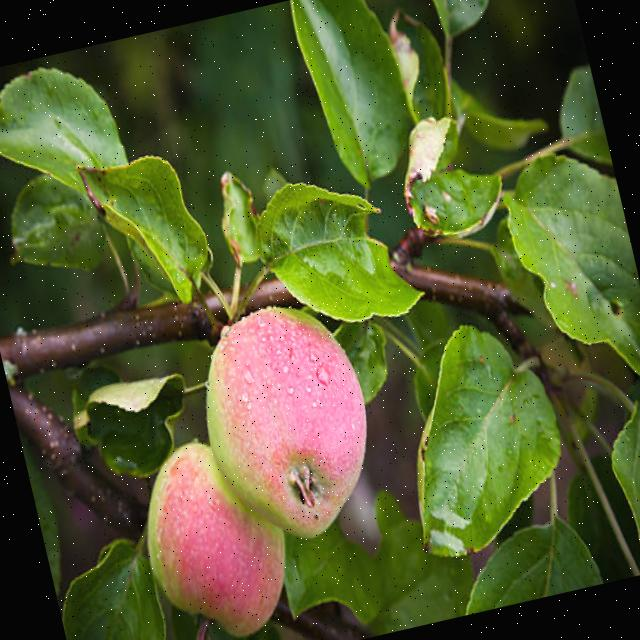Unripe: (183, 288, 390, 554), (125, 423, 304, 640)
